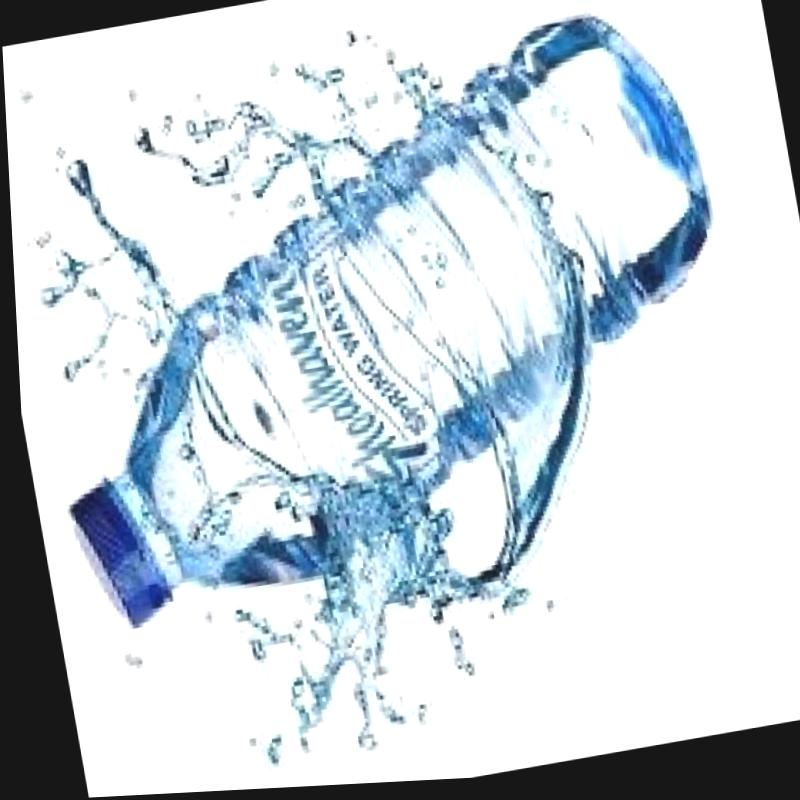botella: (1, 0, 764, 649)
